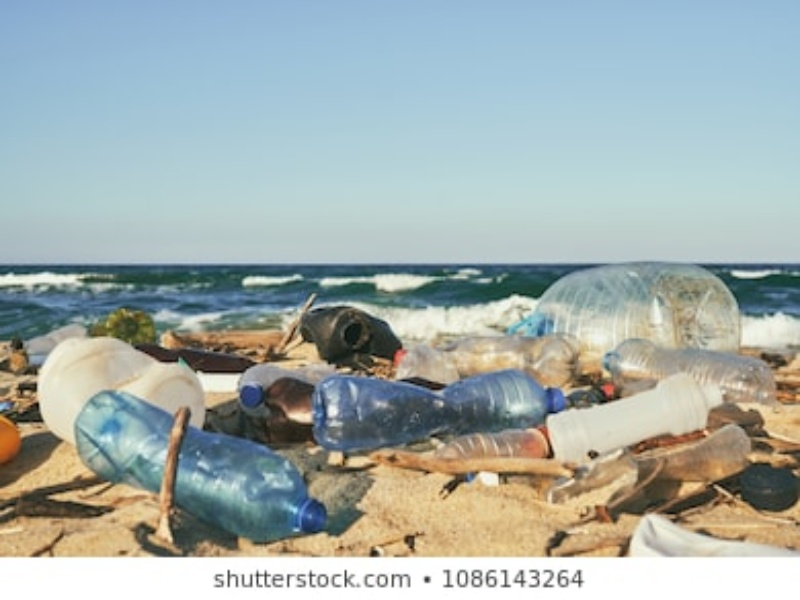bottle-cap: (239, 382, 263, 406)
detergent-bottle: (38, 336, 206, 437)
plastic-bottle: (72, 393, 328, 537), (519, 265, 744, 357), (314, 371, 558, 446), (537, 379, 722, 452), (600, 338, 779, 404), (240, 364, 317, 419)
